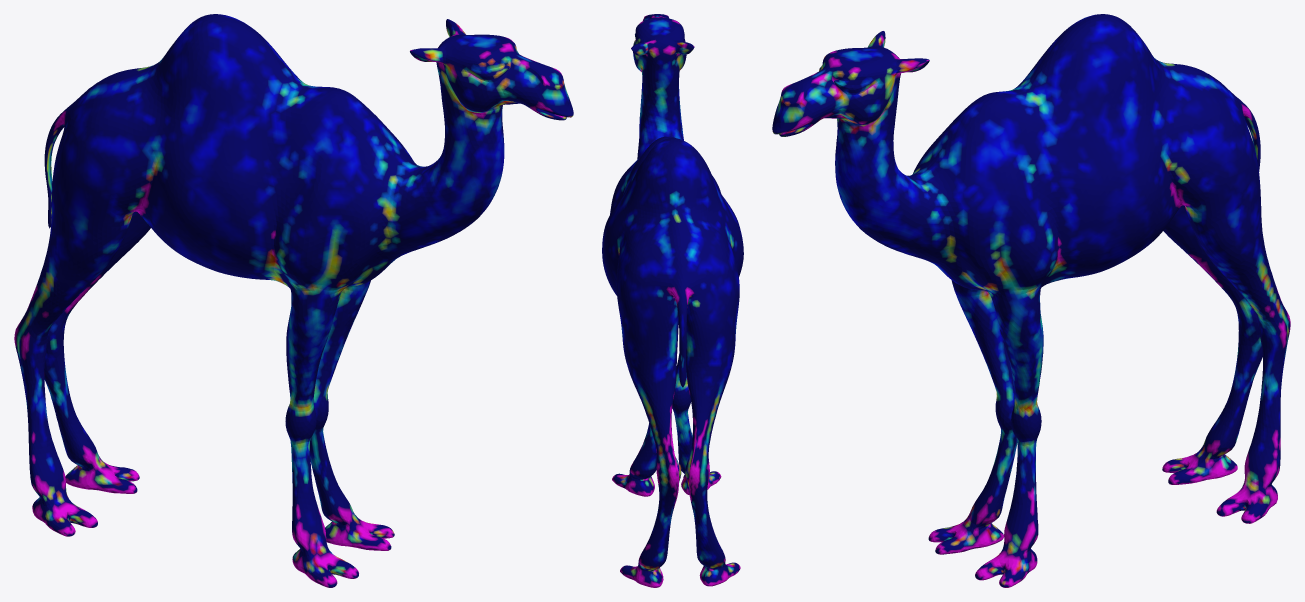
The model's file is camel_residus_5nn.obj.
3 views of the same model, side by side, from view 1: azimuth 30°, elevation 25°; view 2: azimuth 150°, elevation 25°; view 3: azimuth 270°, elevation 25° (orthographic). The views are drawn at different scales.
Bounding box in the file's own units: 0.6039 × 0.9779 × 0.8482.
